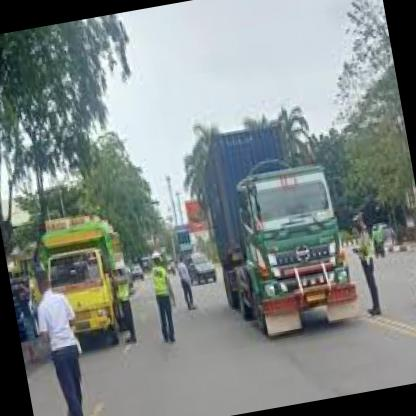truck: (228, 157, 358, 339), (38, 241, 121, 362)
